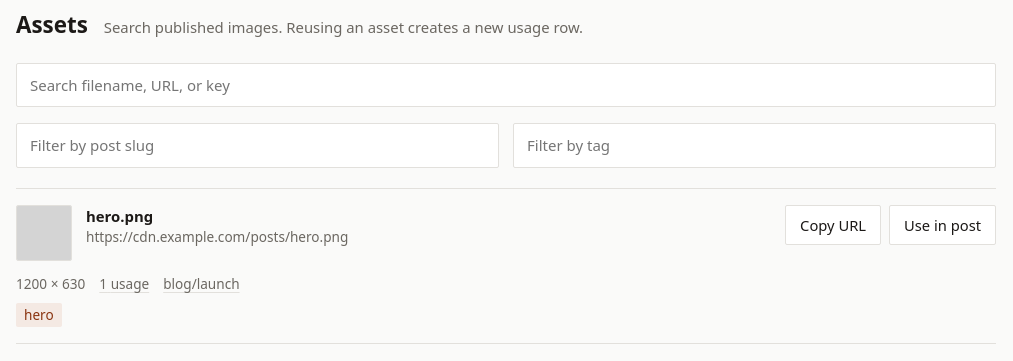
Test: AssetCatalog › clears filters with the × buttons and refetches the full catalog
Type "hero" into the field with placeholder "Search filename, URL, or key" at coordinates (506, 85), box [16, 63, 996, 107]
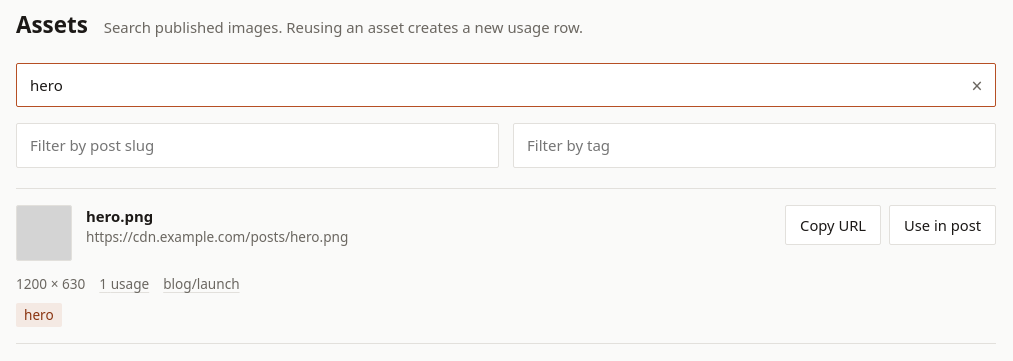
Click the button named "Clear search" at coordinates (977, 85), box [964, 72, 990, 98]
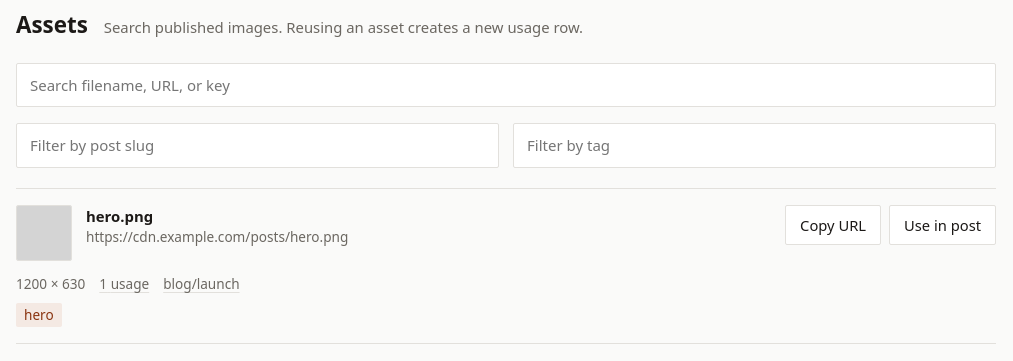
Check: the field with placeholder "Search filename, URL, or key" is empty, box [16, 63, 996, 107]
